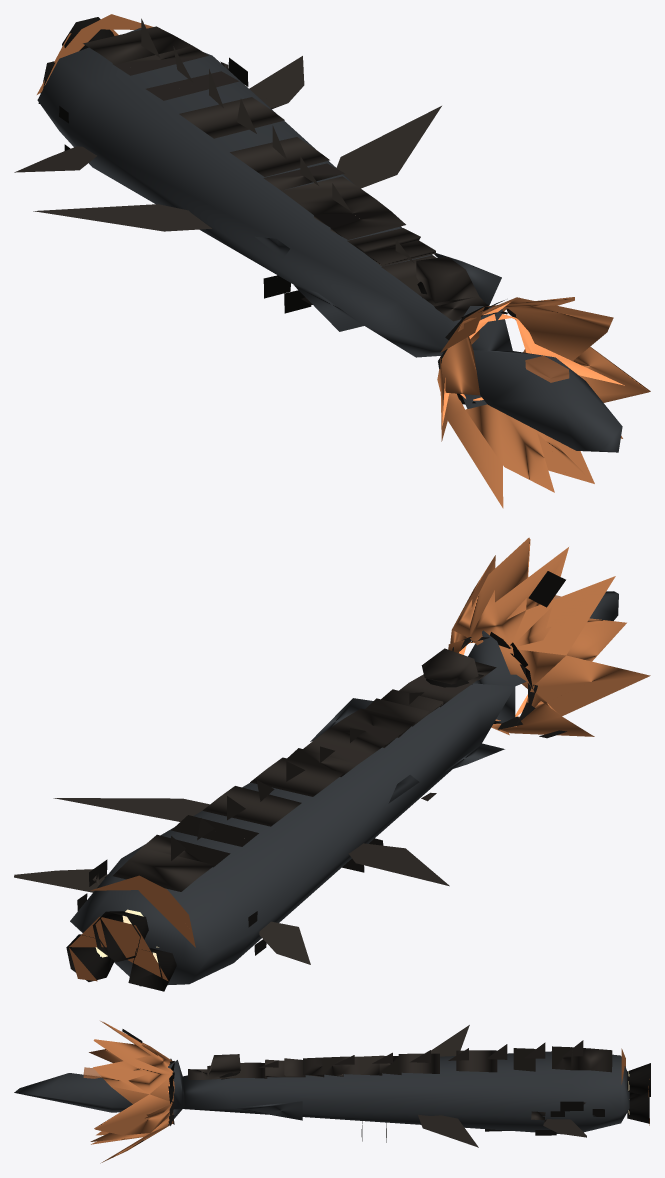
Rendered from kryza-heliotropi-coalition-29-lod2.glb.
3 renders of one model, top to bottom at view 1: azimuth 30°, elevation 25°; view 2: azimuth 150°, elevation 25°; view 3: azimuth 270°, elevation 25°, orthographic. The views are drawn at different scales.
Size of the model in its own units: 21.64 by 10.04 by 47.68.
